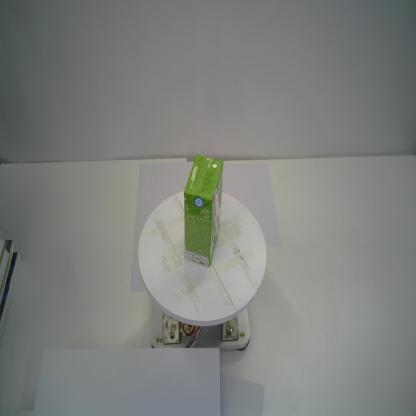Milk: (184, 155, 223, 267)
